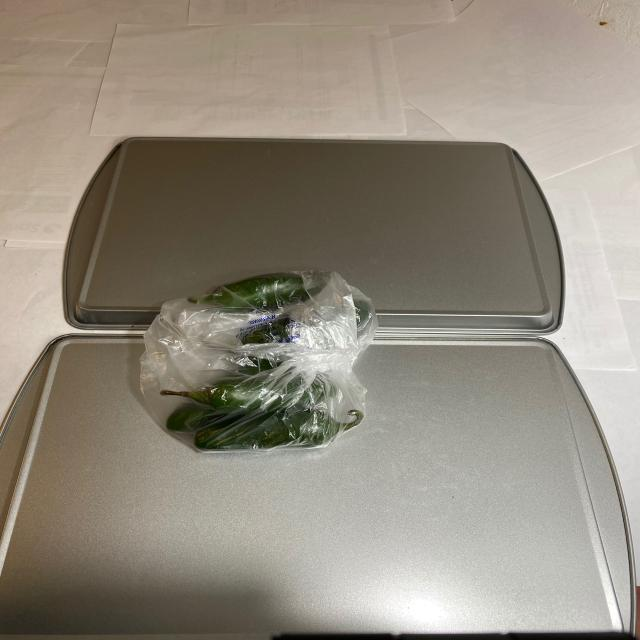chilli: (158, 267, 374, 462)
